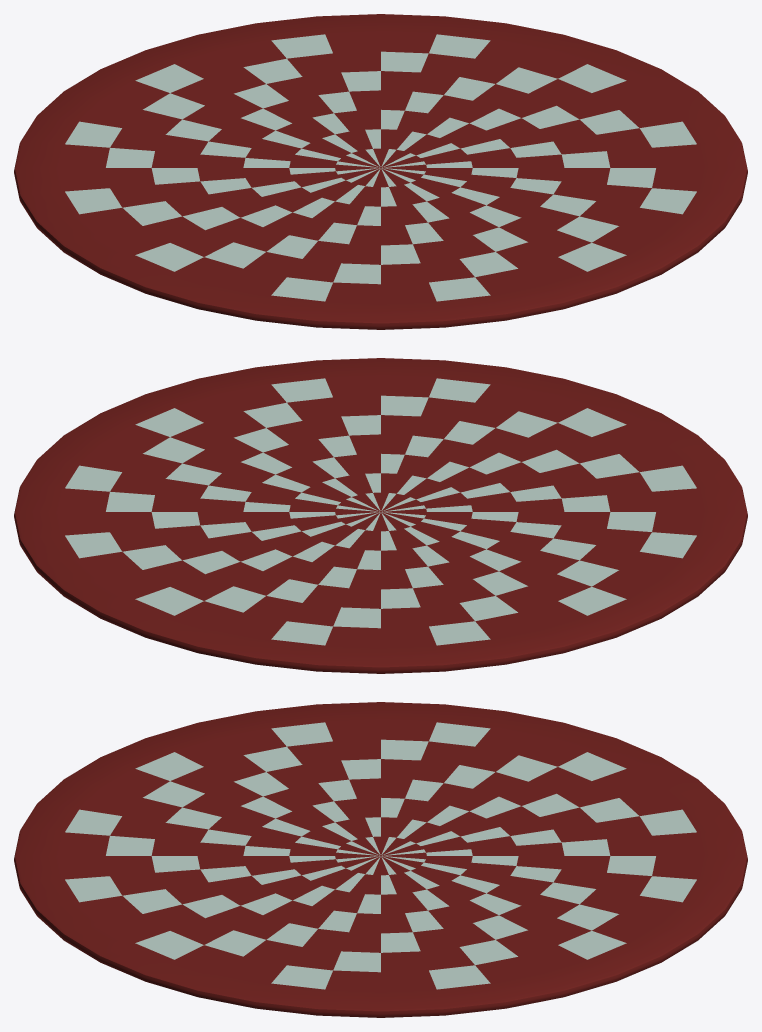
Rendered from Rug.FBX.
The picture shows the model from 3 angles, top to bottom: view 1: azimuth 30°, elevation 25°; view 2: azimuth 150°, elevation 25°; view 3: azimuth 270°, elevation 25°; orthographic projection.
Visible parts, largest first — view 1: Rug; view 2: Rug; view 3: Rug.
Boxes of the visible parts, x1,y1,x2,y2 form: Rug: (14, 14, 747, 329); Rug: (14, 358, 747, 673); Rug: (14, 702, 747, 1017).
Size of the model in its own units: 214 by 2.6 by 214.
